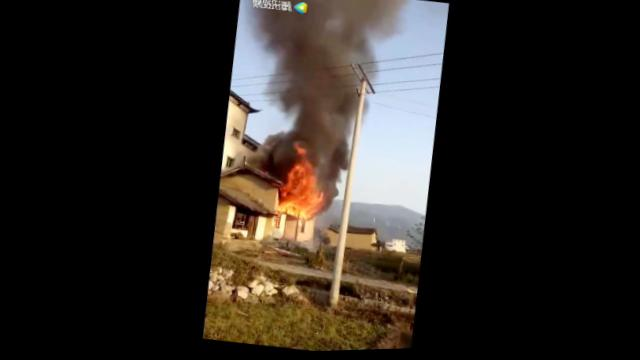fire: (275, 159, 329, 221)
